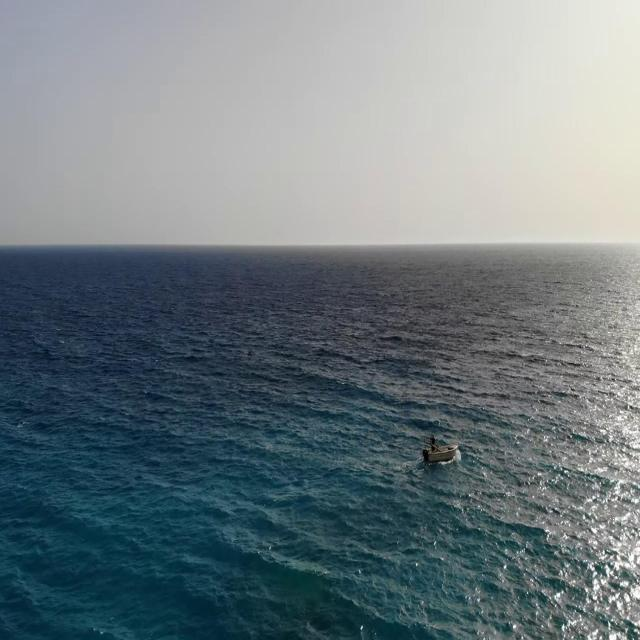boat: (420, 433, 460, 469)
